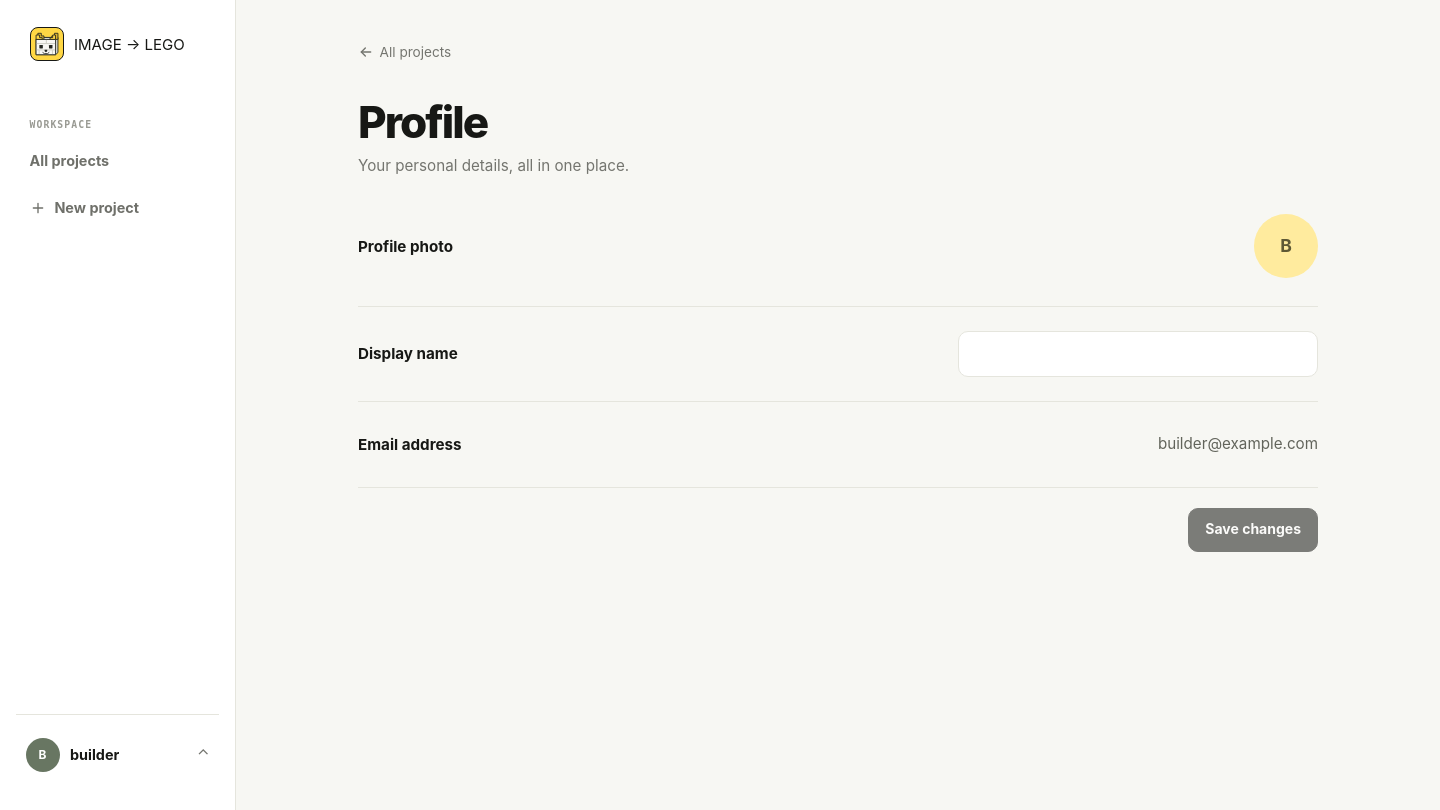
it: App › saves a trimmed display name and updates the account menu when Supabase mutates the session
Expected: the button "Save changes" is disabled, [1188,508,1318,552]
In the field labelled "Display name": (1138, 354) [958,331,1318,377], type "  Reiwen Tan  "
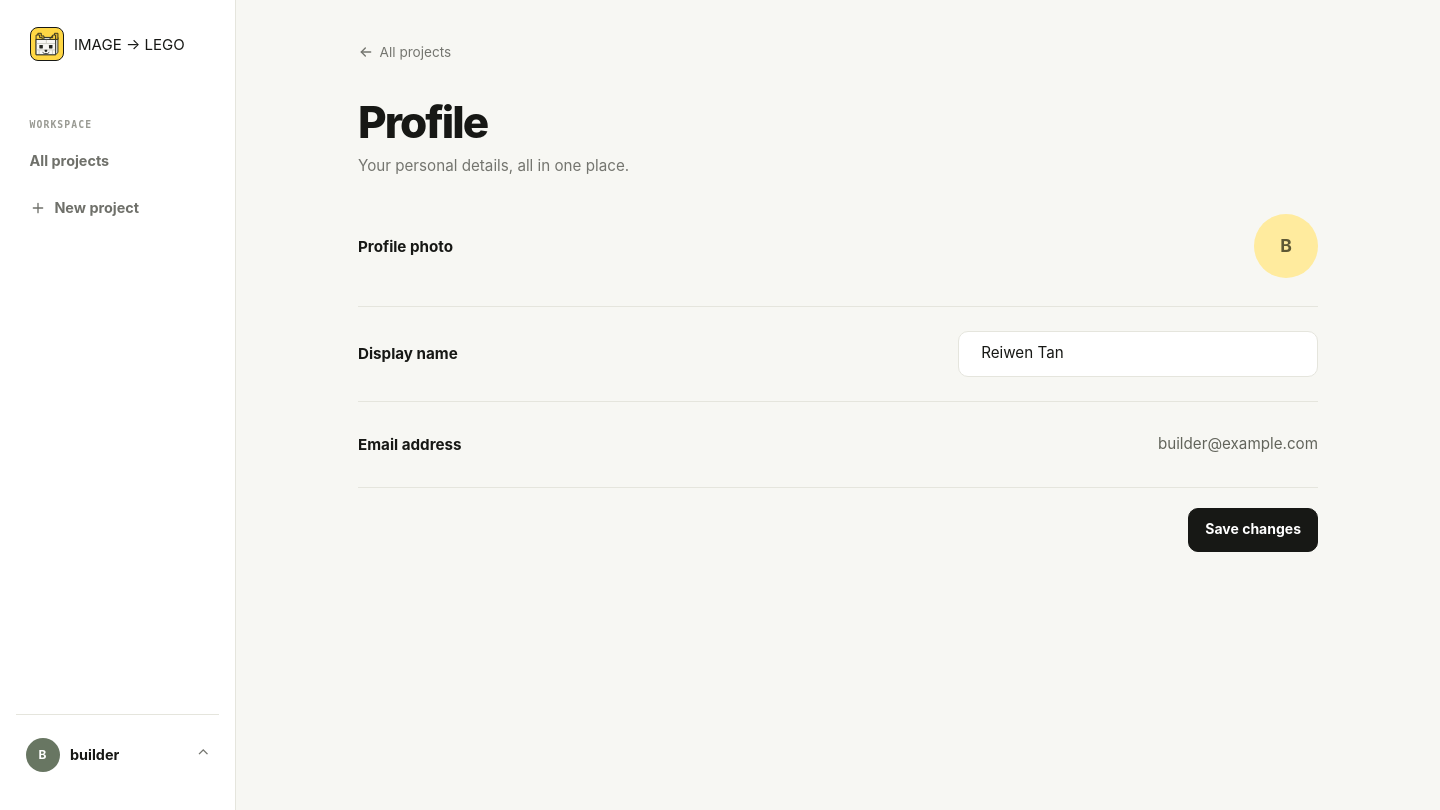
Click the button "Save changes": (1253, 530) [1188,508,1318,552]
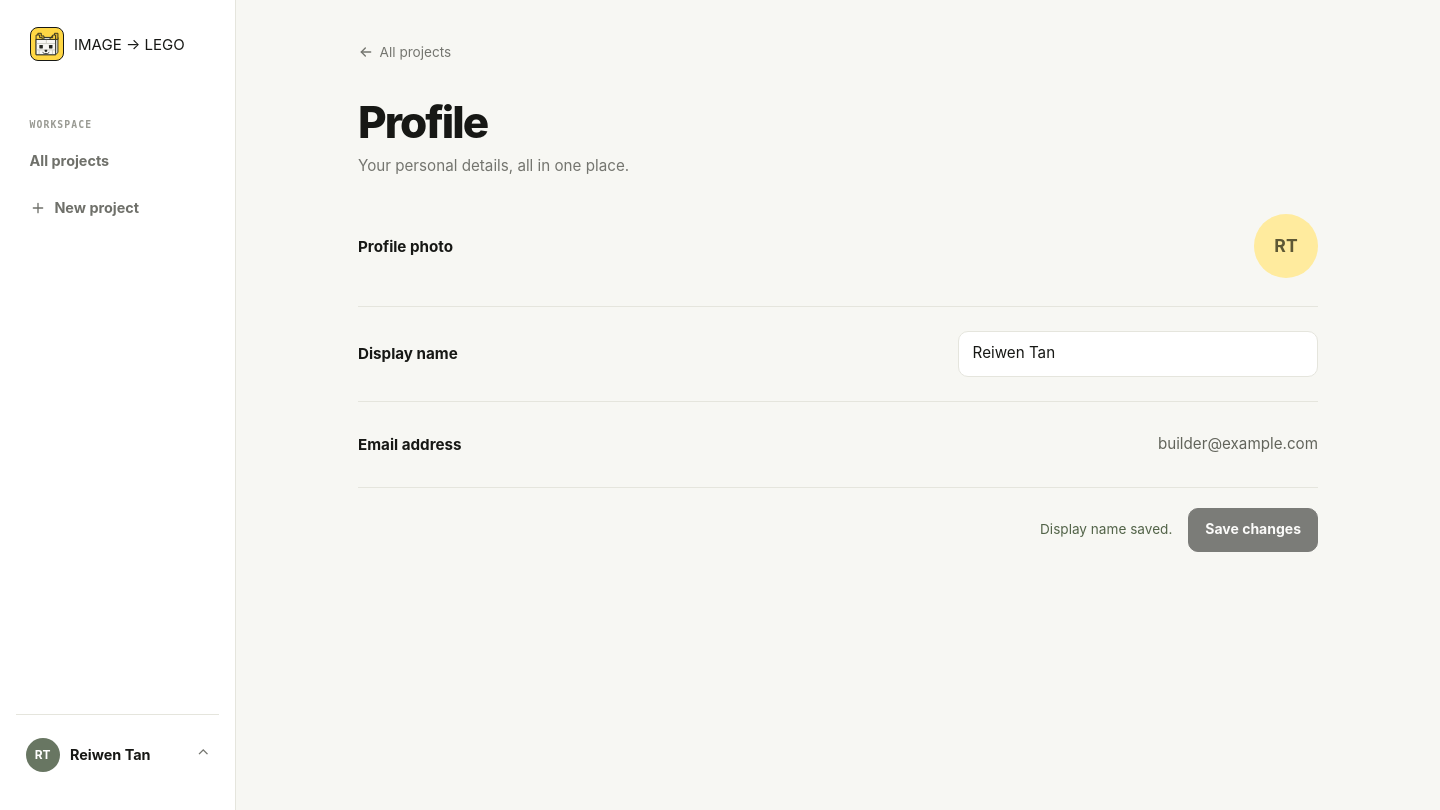
Expected: the text "Display name saved." is shown, [1040,519,1172,540]
Expected: the button with aria-label "Account menu" shows "Reiwen Tan", [16,727,219,783]
Expected: the button "Save changes" is disabled, [1188,508,1318,552]
